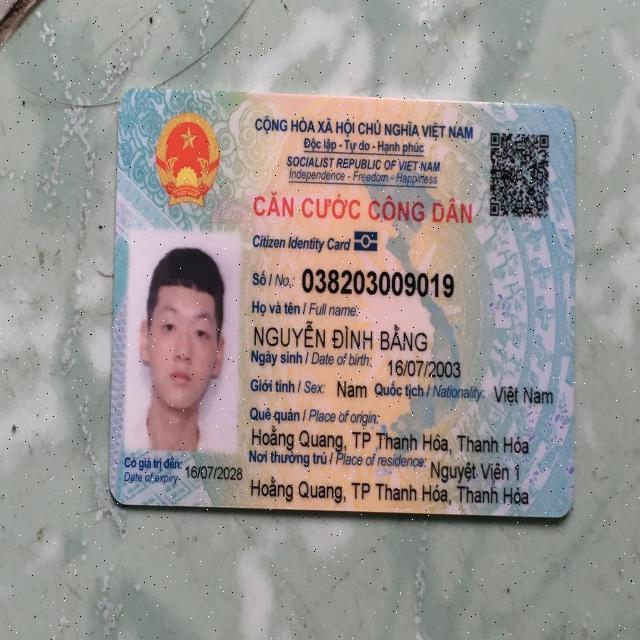current_place: (245, 475, 538, 505), (426, 459, 524, 485)
dob: (385, 353, 463, 383)
expire_date: (182, 461, 243, 484)
gender: (336, 374, 368, 406)
id: (298, 262, 456, 302)
name: (253, 319, 429, 354)
nationality: (490, 375, 559, 410)
origin_place: (245, 425, 531, 457)
qr: (484, 126, 554, 225)
